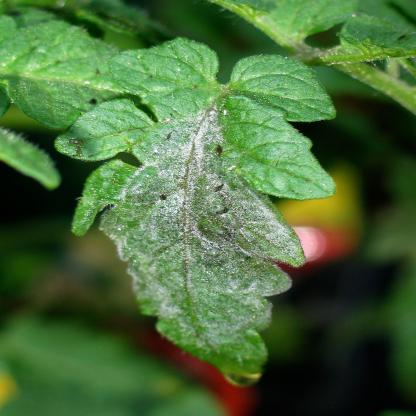tomato leaf late blight: (57, 37, 332, 391)
